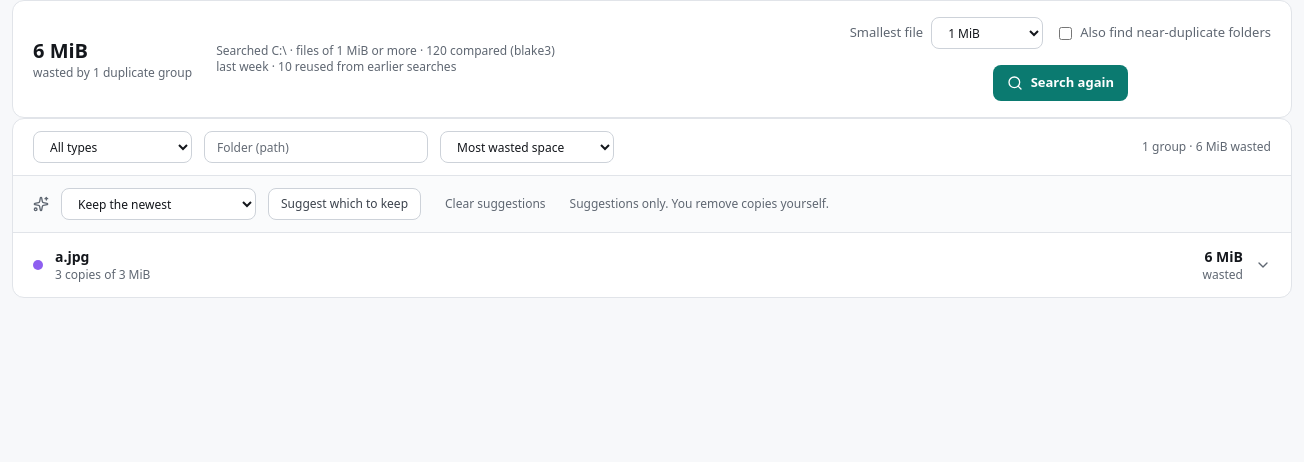
DuplicatesView › lists groups with wasted space and expands to the copies with copy and Explorer actions only
The image size is (1304, 462).
Check: the text "3 copies of 3 MiB" is shown, box [55,266,150,283]
Check: the text "1 group · 6 MiB wasted" is shown, box [1142,139,1271,155]
Click the button "a.jpg 3 copies of 3 MiB 6 MiB wasted". click: (72,256)
box: [13,233,1291,297]
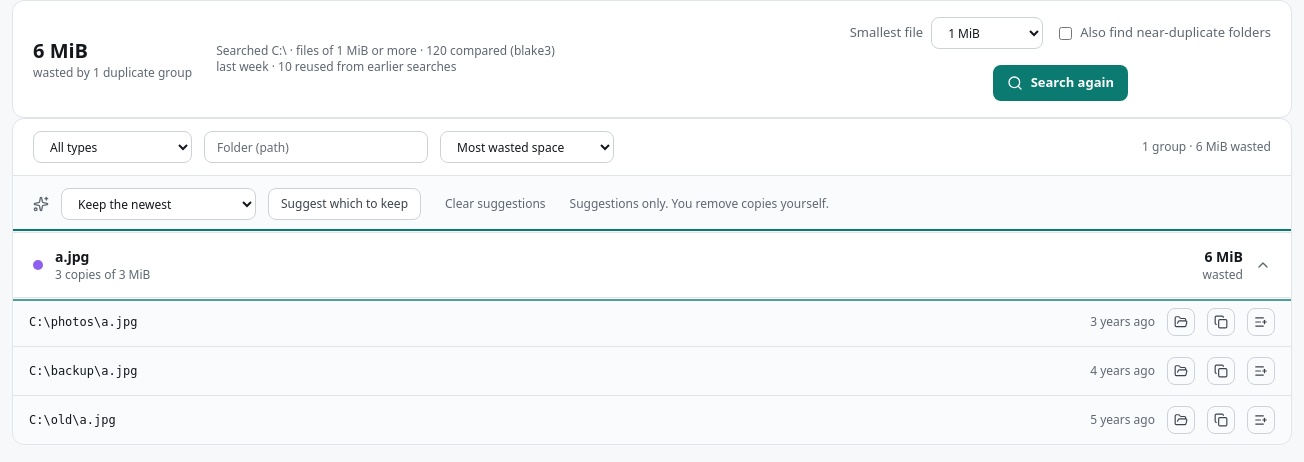
Check: the text "C:\\backup\\a.jpg" is shown, box [29,364,137,378]
Check: the number of buttons named "in Explorer" is 3, box [1167,308,1195,336]; [1167,357,1195,385]; [1167,406,1195,434]
